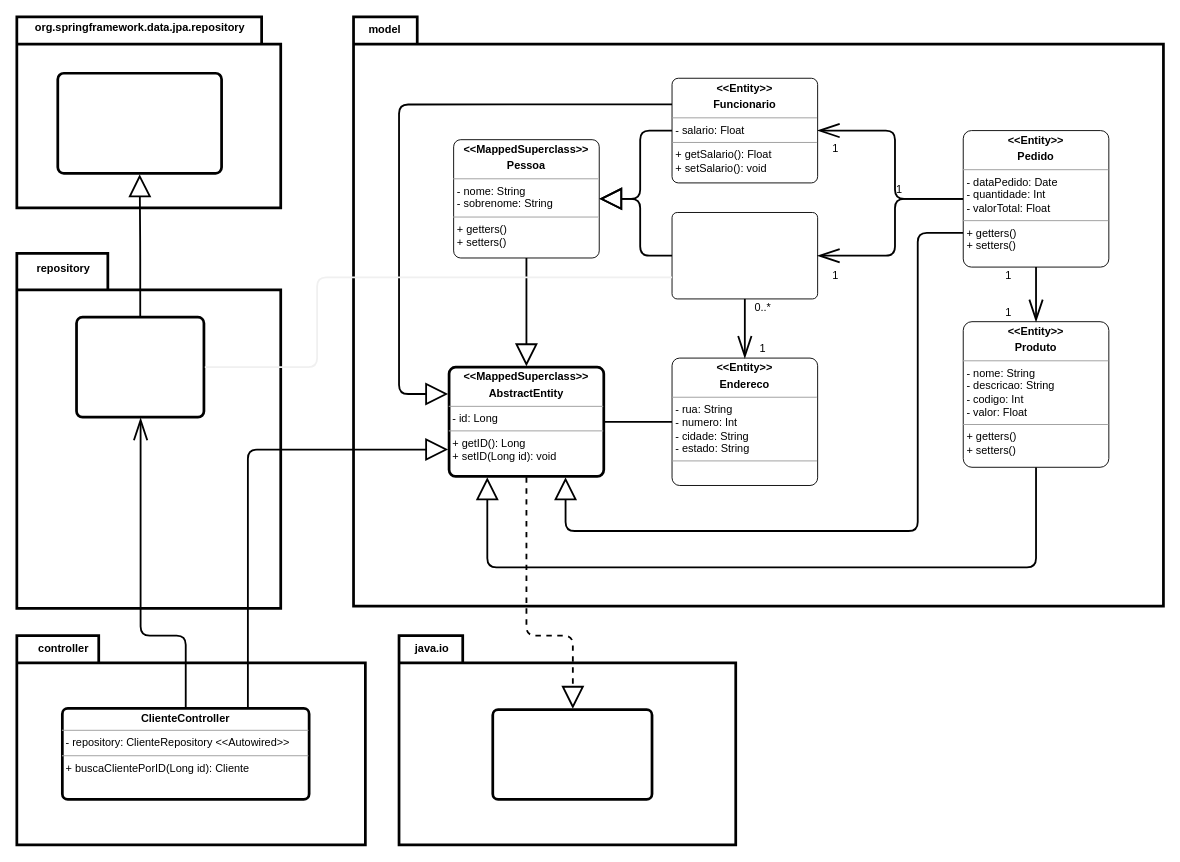
Some shapes in this 1180 by 862 pixel diagram are drawn without their labels. The centre of each missing label's shape, as x and y in pixels:
"<<Entity>> Cliente" goes at (x=744, y=255).
"<<Intergace>> ClienteRepository" goes at (x=140, y=366).
"<<Intergace>> JpaRepository" goes at (x=139, y=122).
"<<Intergace>> Serializable" goes at (x=572, y=754).
